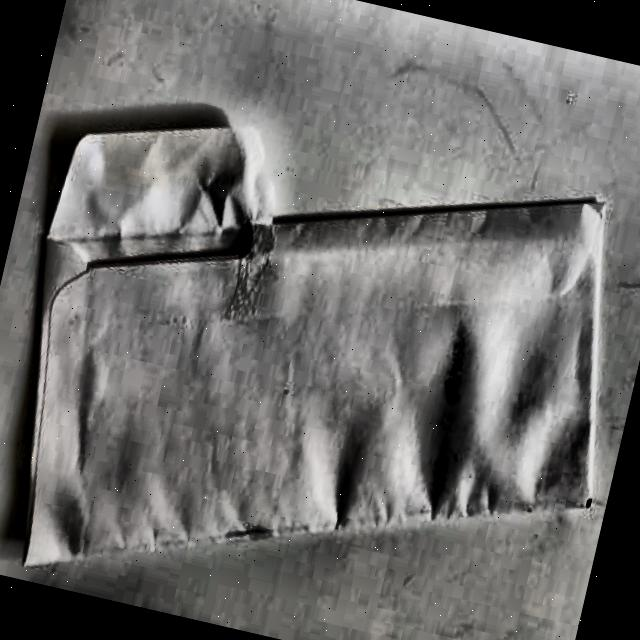paper: (0, 67, 629, 640)
